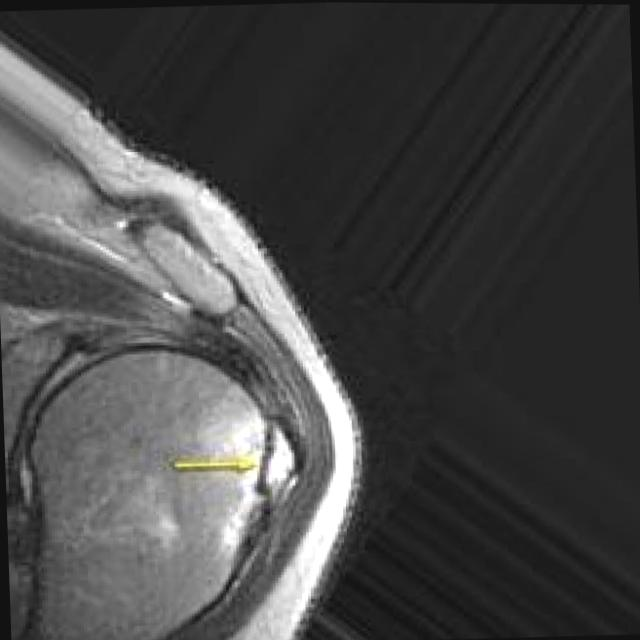Transverse Displaced: (229, 401, 327, 574)
